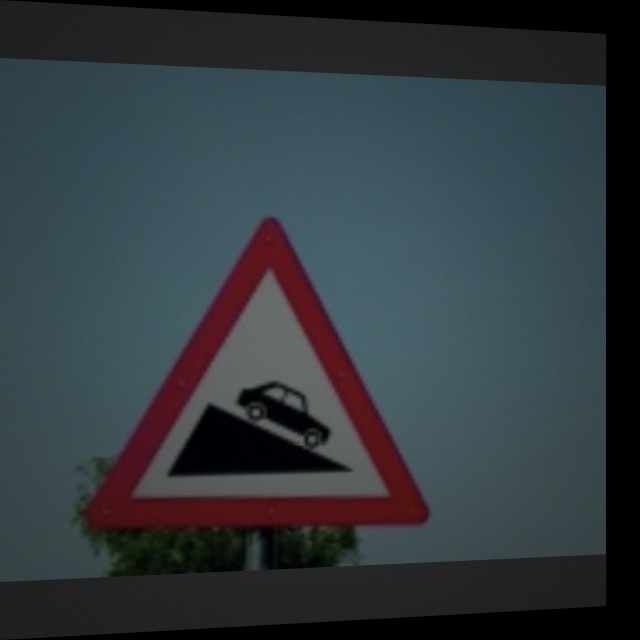Steep_Descent: (89, 218, 425, 533)
